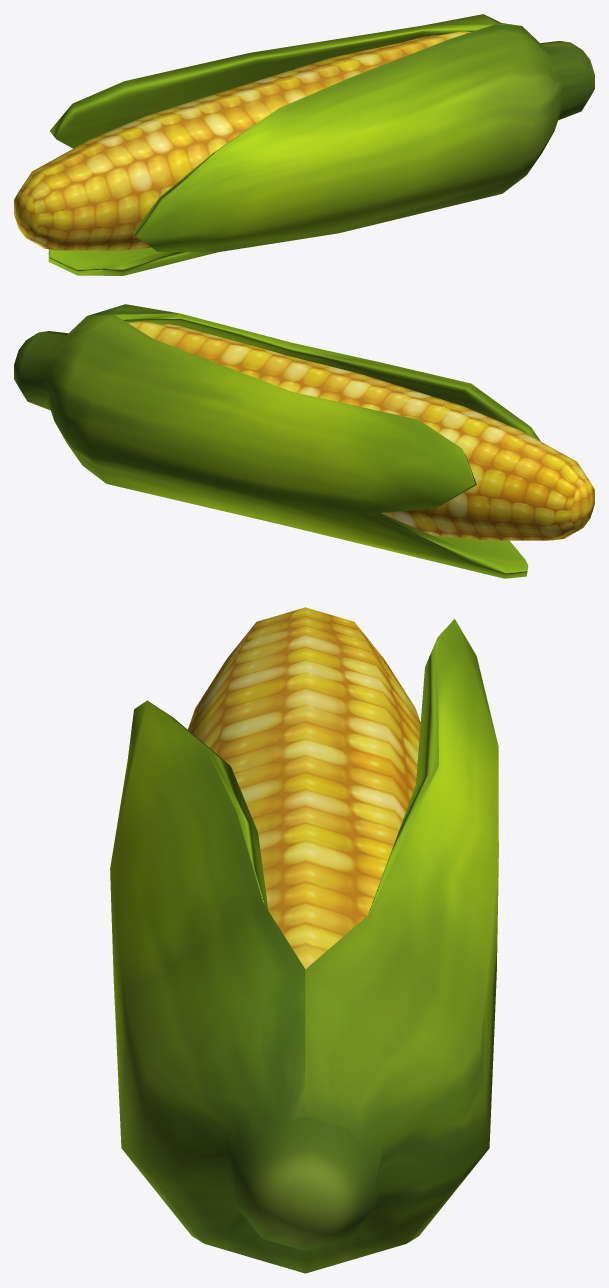
Rendered from Corn_Yellow_Husk_01.fbx.
The picture shows the model from 3 angles, top to bottom: view 1: azimuth 30°, elevation 25°; view 2: azimuth 150°, elevation 25°; view 3: azimuth 270°, elevation 25°; orthographic projection. The views are drawn at different scales.
Parts seen in each view (by area): view 1: Corn_Yellow_Husk_01; view 2: Corn_Yellow_Husk_01; view 3: Corn_Yellow_Husk_01.
Part boxes in pixels (bbox=[...]): Corn_Yellow_Husk_01: bbox=[14, 14, 594, 275]; Corn_Yellow_Husk_01: bbox=[14, 304, 594, 578]; Corn_Yellow_Husk_01: bbox=[110, 607, 498, 1273].
Bounding box in the file's own units: 101 × 28.29 × 29.84.
